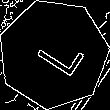L_NW: (24, 27, 83, 81)
